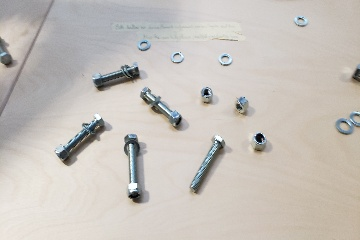Bolt: (190, 135, 227, 193)
FalseAssembly: (51, 111, 107, 163), (122, 131, 147, 206)
FinishedAssembly: (139, 85, 186, 129), (90, 59, 141, 91)
Nut: (251, 131, 269, 152), (233, 96, 251, 116), (199, 86, 215, 103)
Washer: (333, 117, 357, 137), (217, 52, 235, 67), (169, 51, 186, 65), (293, 14, 310, 28), (135, 39, 153, 52)
